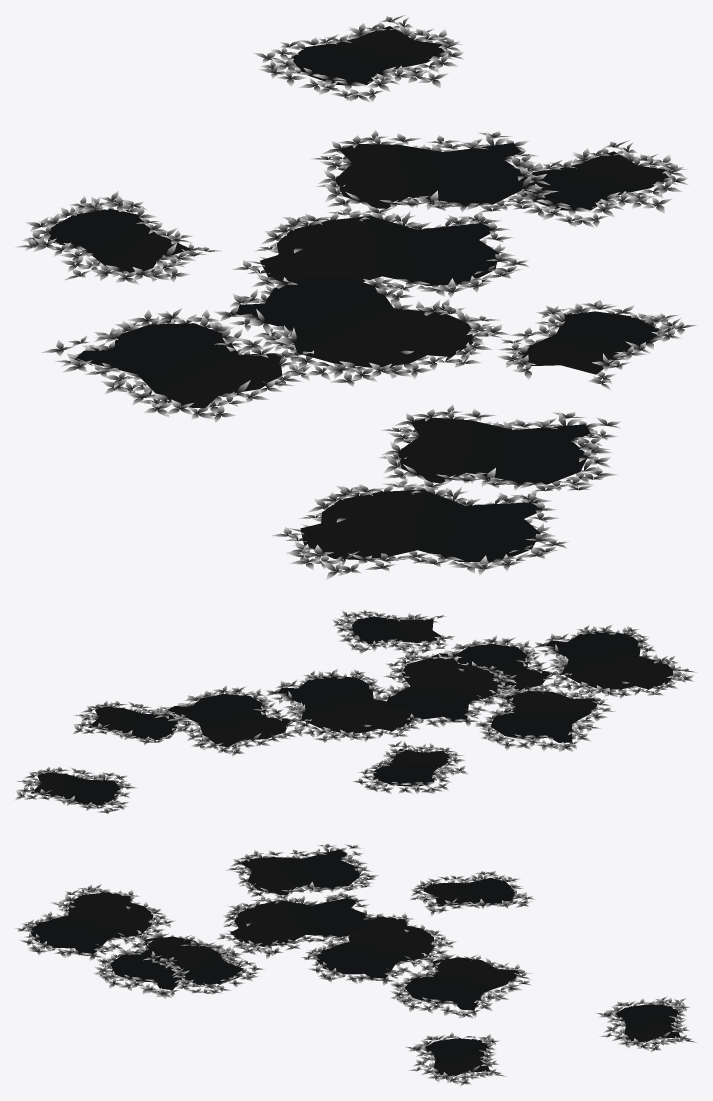
Rendered from SM_ENV_KNFRST_LeafShadow_GroupF.FBX.
3 views of the same model, one above another, from view 1: azimuth 30°, elevation 25°; view 2: azimuth 150°, elevation 25°; view 3: azimuth 270°, elevation 25° (orthographic). The views are drawn at different scales.
Parts seen in each view (by area): view 1: SM_ENV_KNFRST_LeafShadow_GroupF; view 2: SM_ENV_KNFRST_LeafShadow_GroupF; view 3: SM_ENV_KNFRST_LeafShadow_GroupF.
Part boxes in pixels (x1,y1,x2,y2): SM_ENV_KNFRST_LeafShadow_GroupF: [14, 14, 697, 579]; SM_ENV_KNFRST_LeafShadow_GroupF: [14, 609, 697, 814]; SM_ENV_KNFRST_LeafShadow_GroupF: [14, 843, 696, 1086].
Bounding box in the file's own units: 2564 × 250 × 3483.
